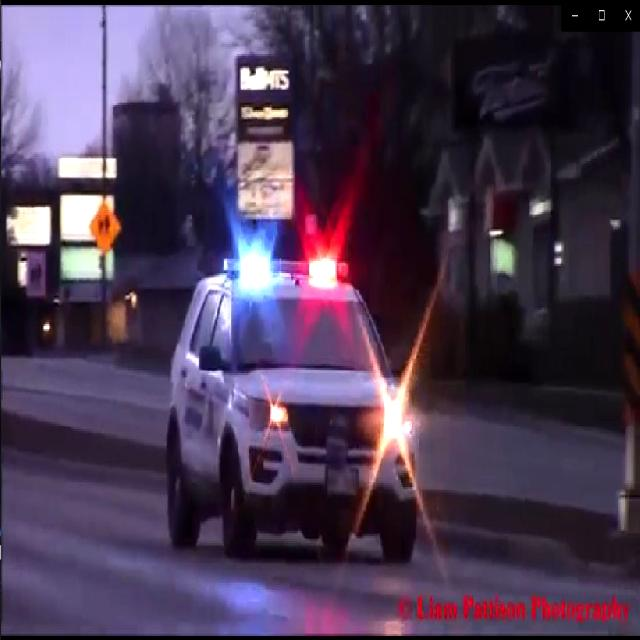emergency: (167, 221, 422, 569)
